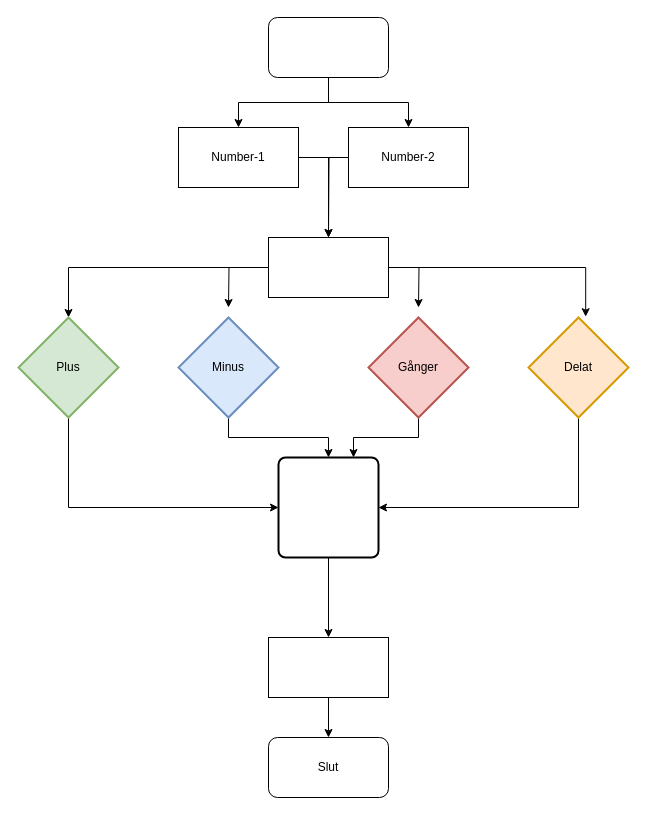
Some shapes in this 646 by 815 pixel diagram are drawn without their labels. The shapes that lost their labels are listed below. From the top down, each one's box as (x1, y1, x2, y2) in pixels, then its label:
(268, 16, 388, 78): Start
(268, 236, 388, 298): Välj räknesätt
(277, 456, 379, 558): Process
(268, 636, 388, 698): Svar
